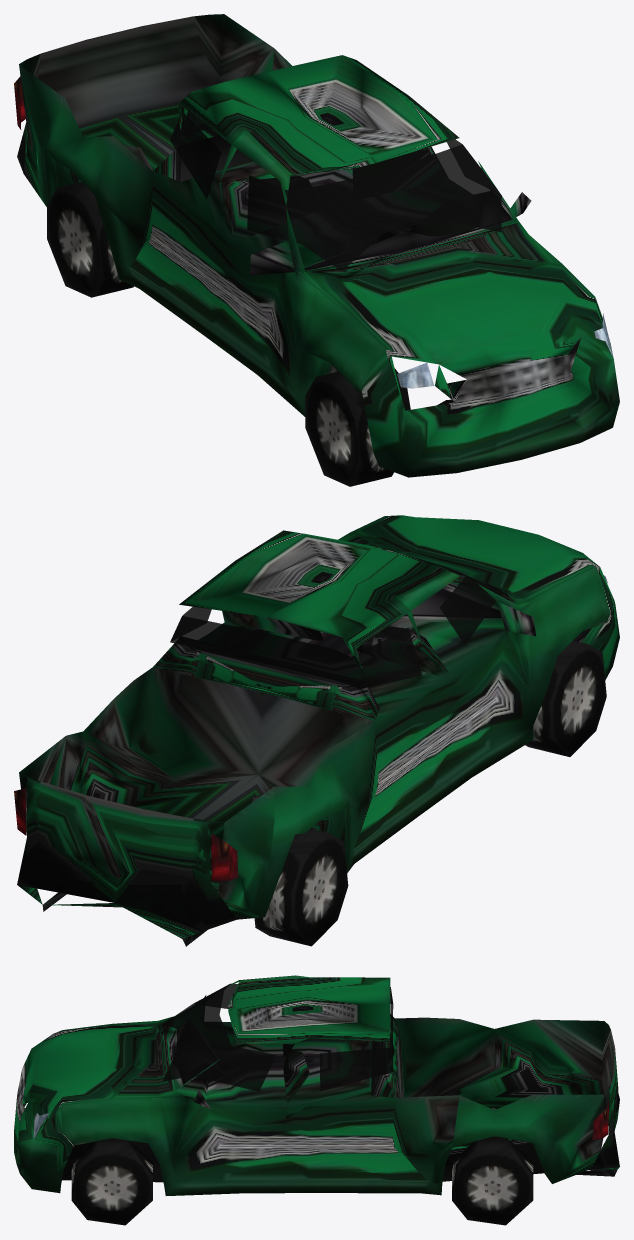
Rendered from pickup_far.glb.
3 renders of one model, top to bottom at view 1: azimuth 30°, elevation 25°; view 2: azimuth 150°, elevation 25°; view 3: azimuth 270°, elevation 25°, orthographic. The views are drawn at different scales.
Visible parts, largest first — view 1: body, wheel_fr, wheel_rr; view 2: body, wheel_rr, wheel_fr; view 3: body, wheel_rl, wheel_fl.
Part boxes in pixels (x1,y1,x2,y2): body: [14, 14, 619, 477]; wheel_fr: [305, 371, 393, 486]; wheel_rr: [47, 182, 133, 297]; body: [14, 515, 619, 946]; wheel_rr: [254, 828, 348, 946]; wheel_fr: [525, 640, 606, 756]; body: [14, 975, 619, 1195]; wheel_rl: [452, 1137, 533, 1225]; wheel_fl: [71, 1138, 152, 1225].
Bounding box in the file's own units: 2.05 × 1.66 × 5.11.
Materials: 4 (3 with a texture image).
